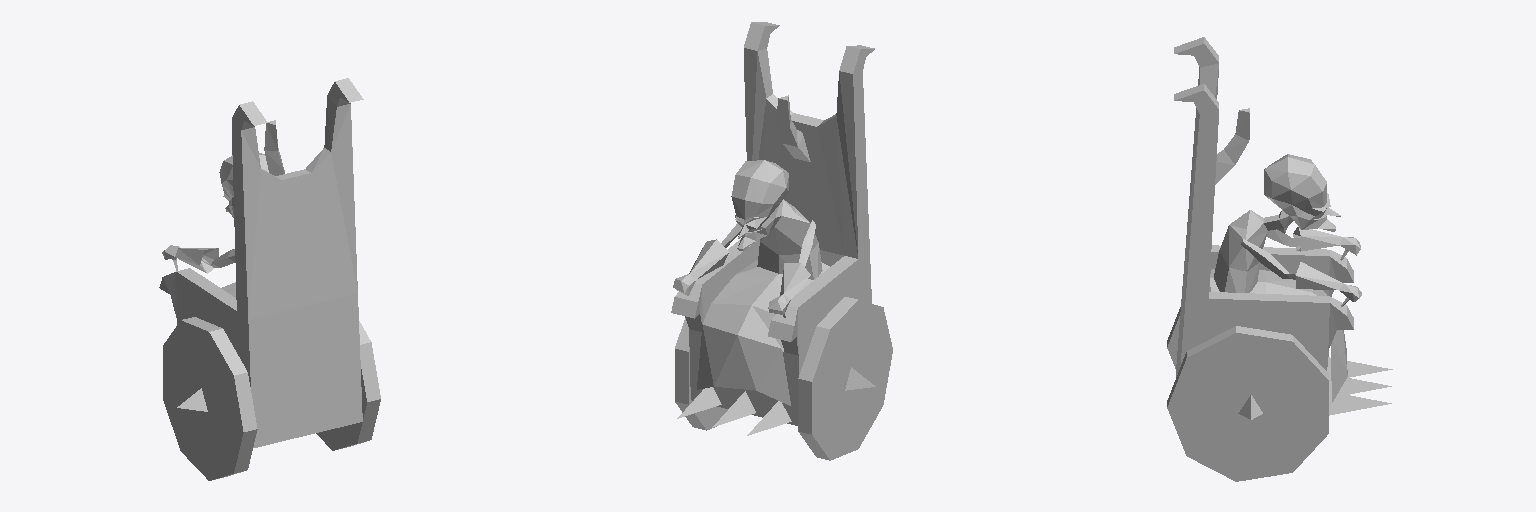
File: drfreak.obj
3 views of the same model, side by side, from view 1: azimuth 30°, elevation 25°; view 2: azimuth 150°, elevation 25°; view 3: azimuth 270°, elevation 25° (orthographic).
Parts seen in each view (by area): view 1: Group; view 2: Group; view 3: Group.
Boxes of the visible parts, box(x1,y1,x2,y2) form: Group: box(159, 78, 380, 480); Group: box(671, 22, 892, 460); Group: box(1167, 37, 1392, 481).
Size of the model in its own units: 27.01 by 52.94 by 28.15.